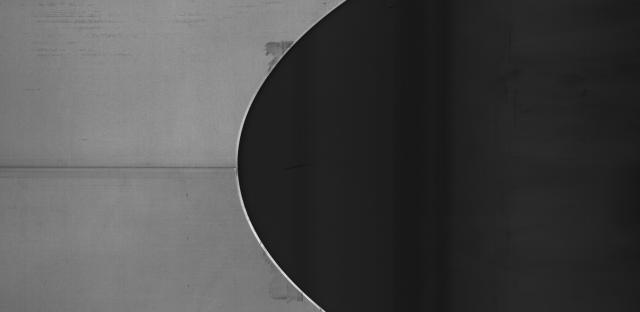crescent_gap: (219, 1, 369, 311)
welding_line: (1, 155, 251, 185)
